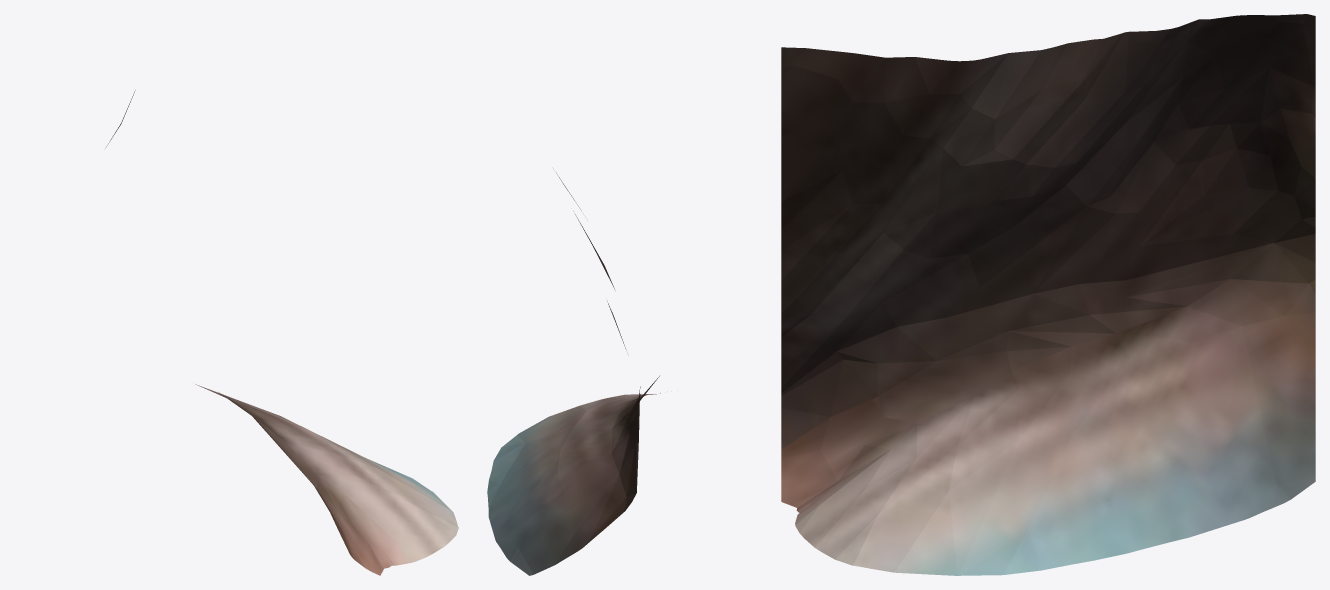
The picture shows the model from 3 angles, left to right: view 1: azimuth 30°, elevation 25°; view 2: azimuth 150°, elevation 25°; view 3: azimuth 270°, elevation 25°; orthographic projection. The views are drawn at different scales.
Size of the model in its own units: 30.31 by 42.87 by 42.87.
Materials: 1 (1 with a texture image).
